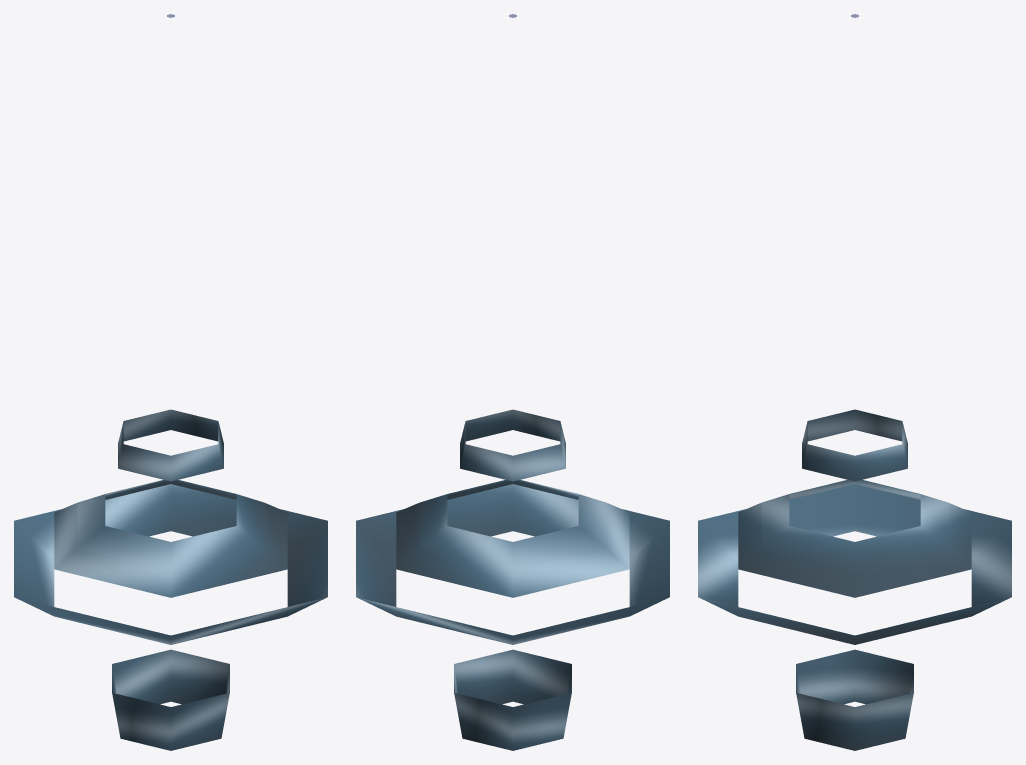
File: skytowerlights.fbx
3 views of the same model, side by side, from view 1: azimuth 30°, elevation 25°; view 2: azimuth 150°, elevation 25°; view 3: azimuth 270°, elevation 25° (orthographic).
Parts seen in each view (by area): view 1: skytowerlights; view 2: skytowerlights; view 3: skytowerlights.
Part boxes in pixels (x1,y1,x2,y2): skytowerlights: [14, 14, 327, 750]; skytowerlights: [356, 14, 669, 750]; skytowerlights: [698, 14, 1011, 750].
Bounding box in the file's own units: 124 × 268 × 107.
